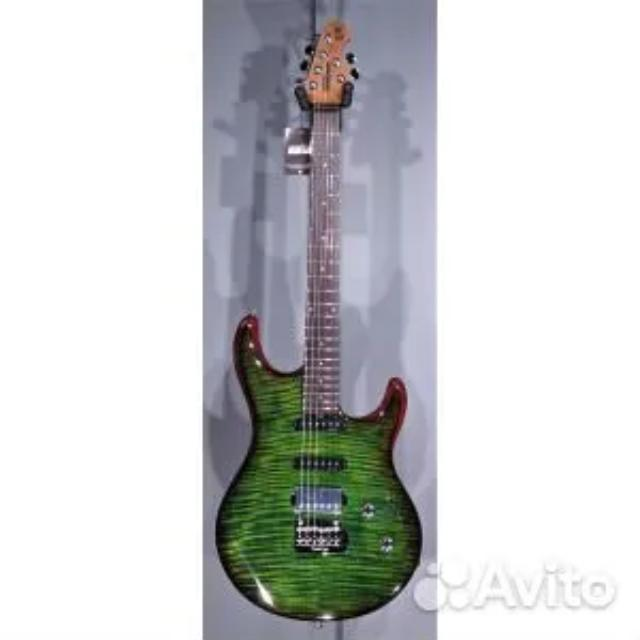Electric-Guitar: (217, 22, 423, 622)
